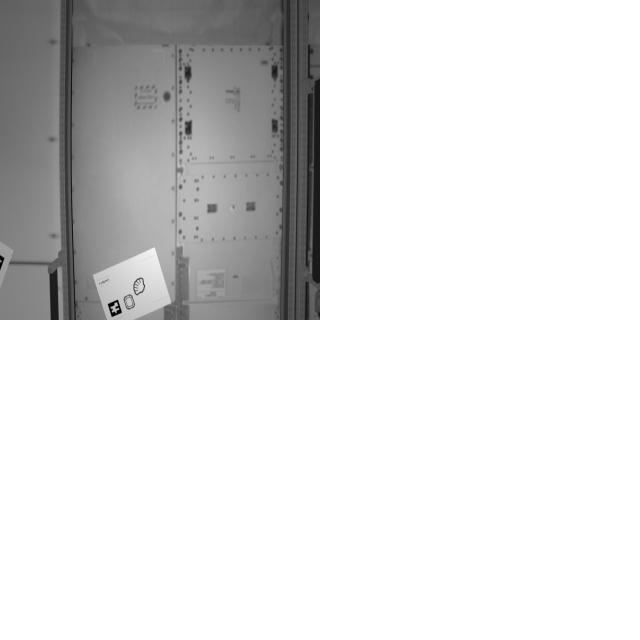emerald: (124, 294, 138, 312)
shell: (133, 276, 150, 298)
